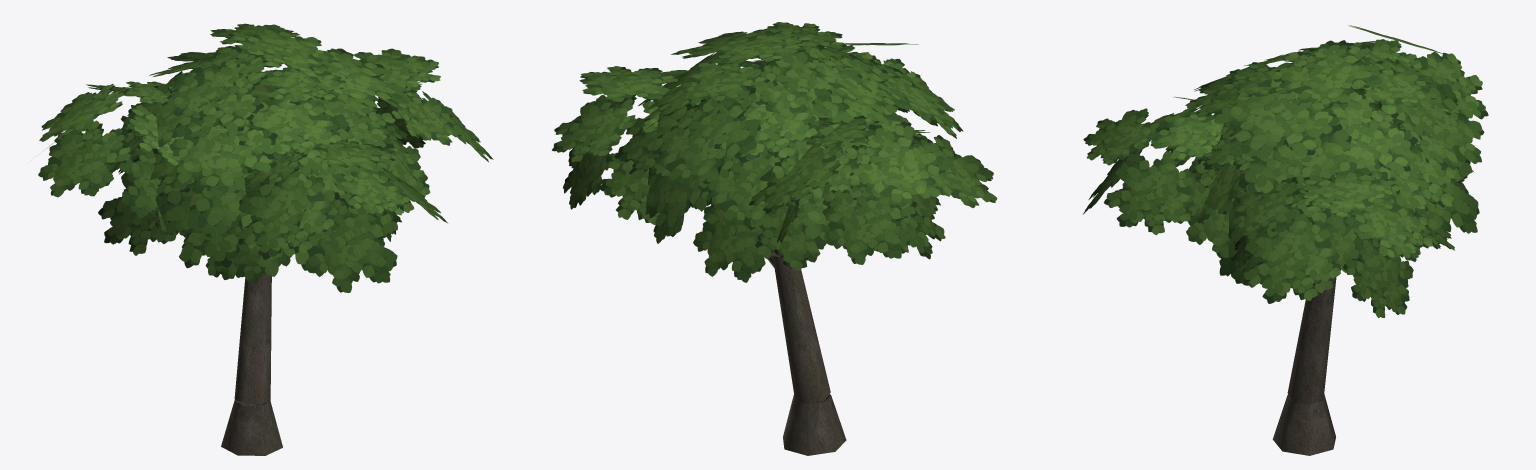
Rendered from tree1.glb.
The picture shows the model from 3 angles, left to right: view 1: azimuth 30°, elevation 25°; view 2: azimuth 150°, elevation 25°; view 3: azimuth 270°, elevation 25°; orthographic projection. The views are drawn at different scales.
Visible parts, largest first — view 1: Tree; view 2: Tree; view 3: Tree.
Part boxes in pixels (bbox=[...]): Tree: bbox=[38, 23, 493, 455]; Tree: bbox=[552, 22, 997, 455]; Tree: bbox=[1083, 25, 1488, 455].
Size of the model in its own units: 10.32 by 8.35 by 8.77.
2 materials, 2 textured.
